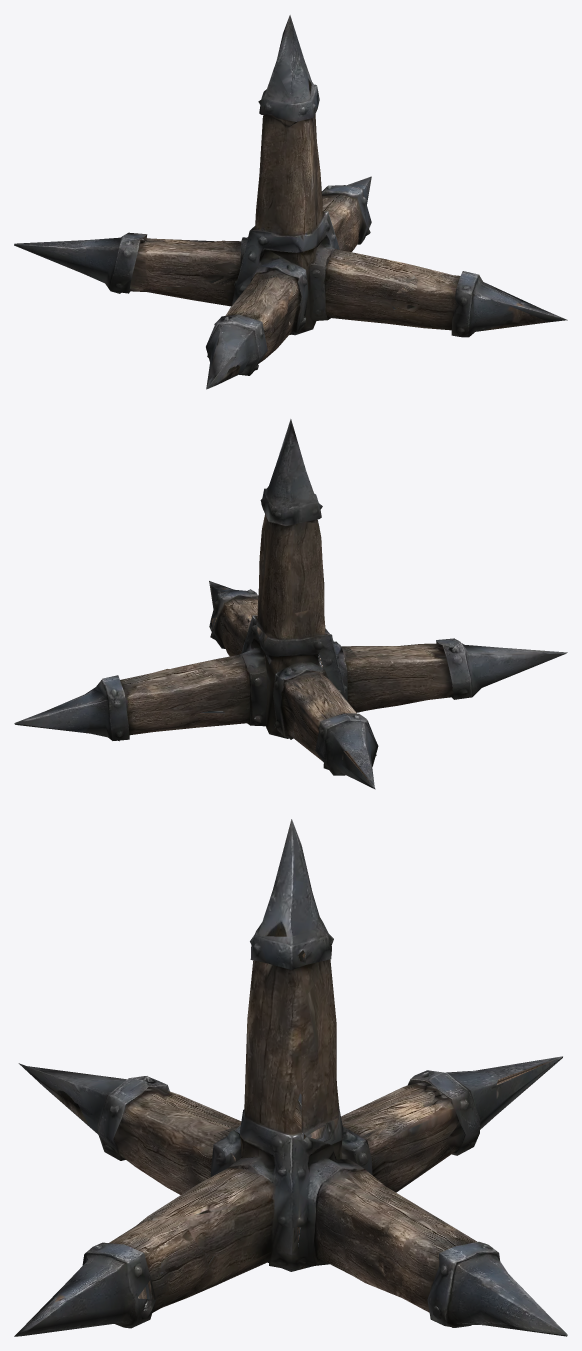
Rendered from def_hedgehog.glb.
The picture shows the model from 3 angles, top to bottom: view 1: azimuth 30°, elevation 25°; view 2: azimuth 150°, elevation 25°; view 3: azimuth 270°, elevation 25°; orthographic projection. The views are drawn at different scales.
Visible parts, largest first — view 1: tripo_node_5f9d76af-3b45-41fe-a8db-1894895f336c; view 2: tripo_node_5f9d76af-3b45-41fe-a8db-1894895f336c; view 3: tripo_node_5f9d76af-3b45-41fe-a8db-1894895f336c.
Boxes of the visible parts, bbox=[...] form: tripo_node_5f9d76af-3b45-41fe-a8db-1894895f336c: bbox=[14, 15, 567, 389]; tripo_node_5f9d76af-3b45-41fe-a8db-1894895f336c: bbox=[14, 419, 567, 789]; tripo_node_5f9d76af-3b45-41fe-a8db-1894895f336c: bbox=[14, 819, 567, 1336].
Bounding box in the file's own units: 0.9805 × 0.8128 × 0.9215.
1 material, 1 textured.
